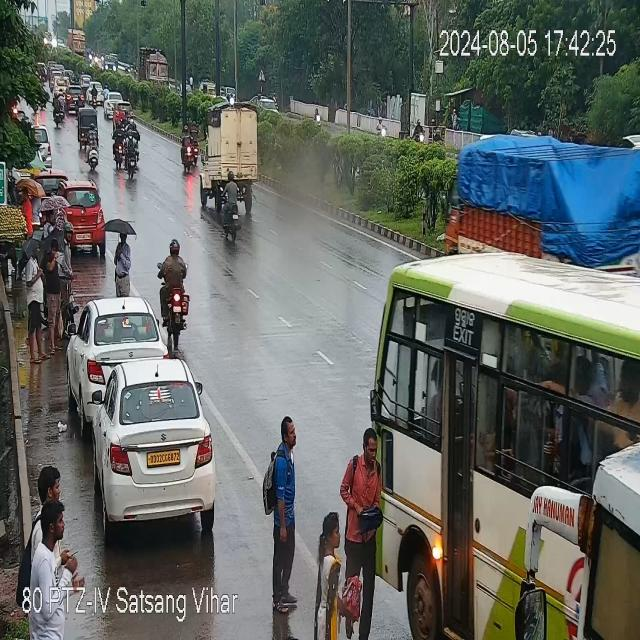2-wheelers: (160, 239, 196, 344), (219, 166, 242, 245), (180, 125, 203, 173), (87, 120, 100, 174), (125, 131, 138, 171), (412, 116, 424, 152), (374, 112, 389, 138), (313, 104, 321, 125)
auto: (78, 104, 101, 154), (200, 79, 217, 99)
bus: (377, 266, 640, 640)
car: (88, 361, 216, 530), (70, 296, 165, 406), (65, 186, 106, 249), (112, 98, 137, 120), (66, 83, 85, 108), (105, 91, 122, 117)
pedestrian: (336, 426, 383, 640), (262, 412, 306, 617), (20, 466, 73, 619), (314, 509, 344, 640), (22, 239, 46, 363), (47, 238, 65, 348), (62, 219, 77, 314), (112, 231, 134, 295)
truck: (455, 129, 640, 268), (202, 101, 268, 216), (139, 45, 170, 87), (68, 28, 86, 57)
